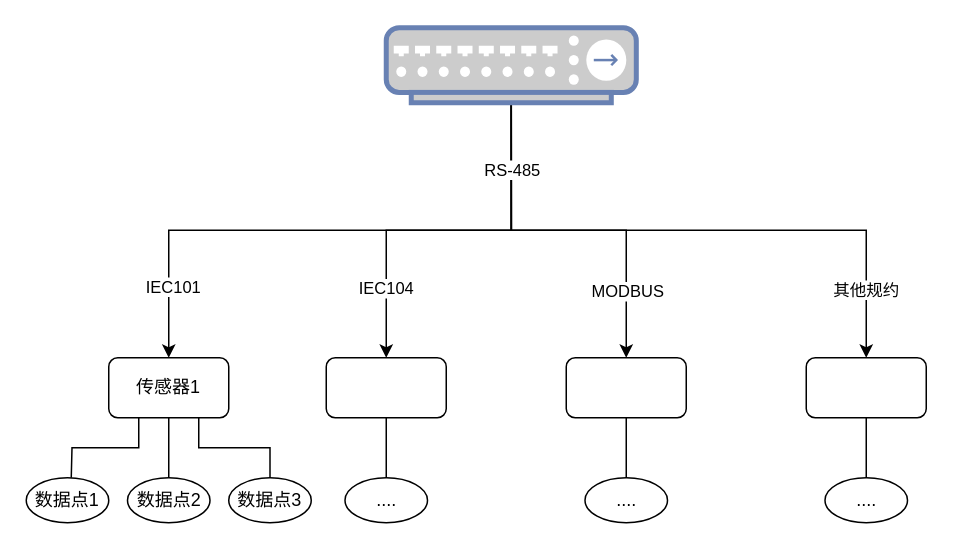
The diagram is 953 pixels wide and 549 high, and some of its shapes have lost their labels. Each missing label, with the centre of its shape:
"传感器2" goes at pixel 385 387.
"传感器3" goes at pixel 625 387.
"传感器4" goes at pixel 865 387.
"数据采集器" goes at pixel 510 65.
